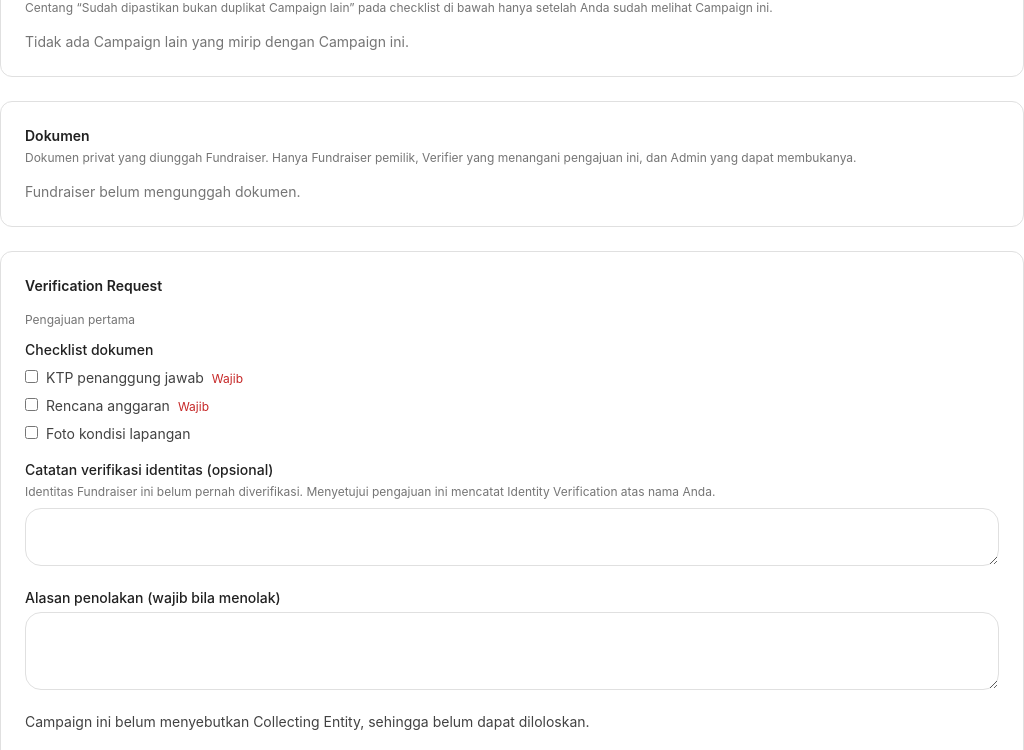
Test: the moderation page of one Campaign › required checklist items › disables approve, and says which required items are unticked, until every one is ticked
The image size is (1024, 750).
(page scrolled)
Click the checkbox labelled "KTP penanggung jawab".
click(32, 376)  # box top-left (25, 370), bottom-right (38, 383)
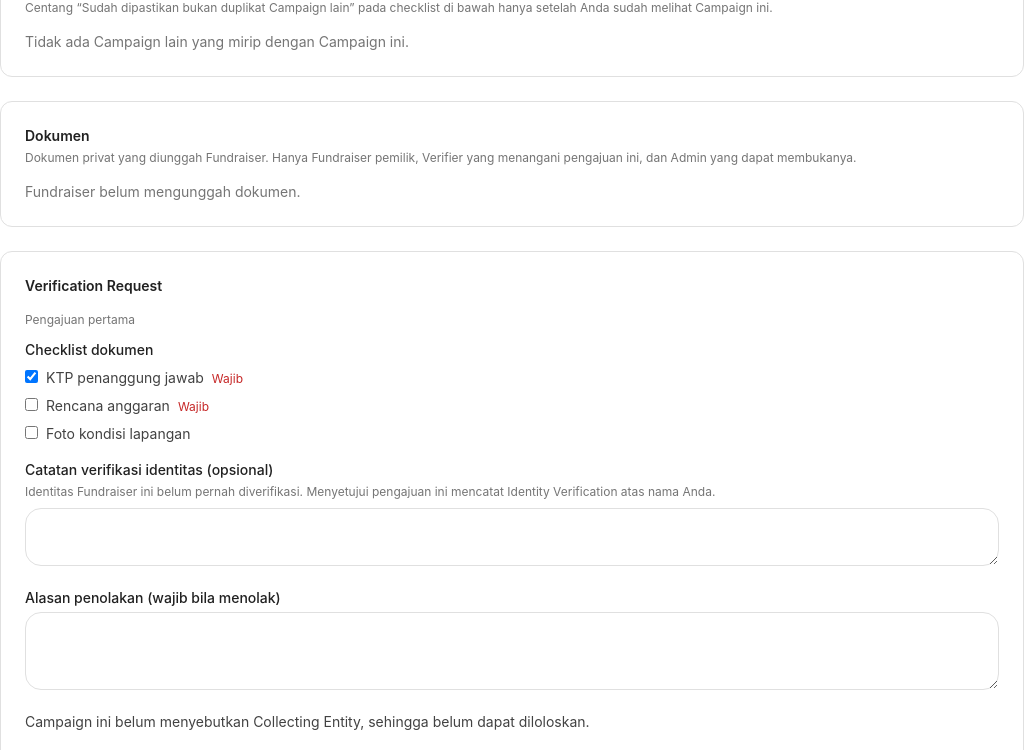
Click the checkbox labelled "Rencana anggaran".
click(32, 404)  # box top-left (25, 398), bottom-right (38, 411)
(page scrolled)
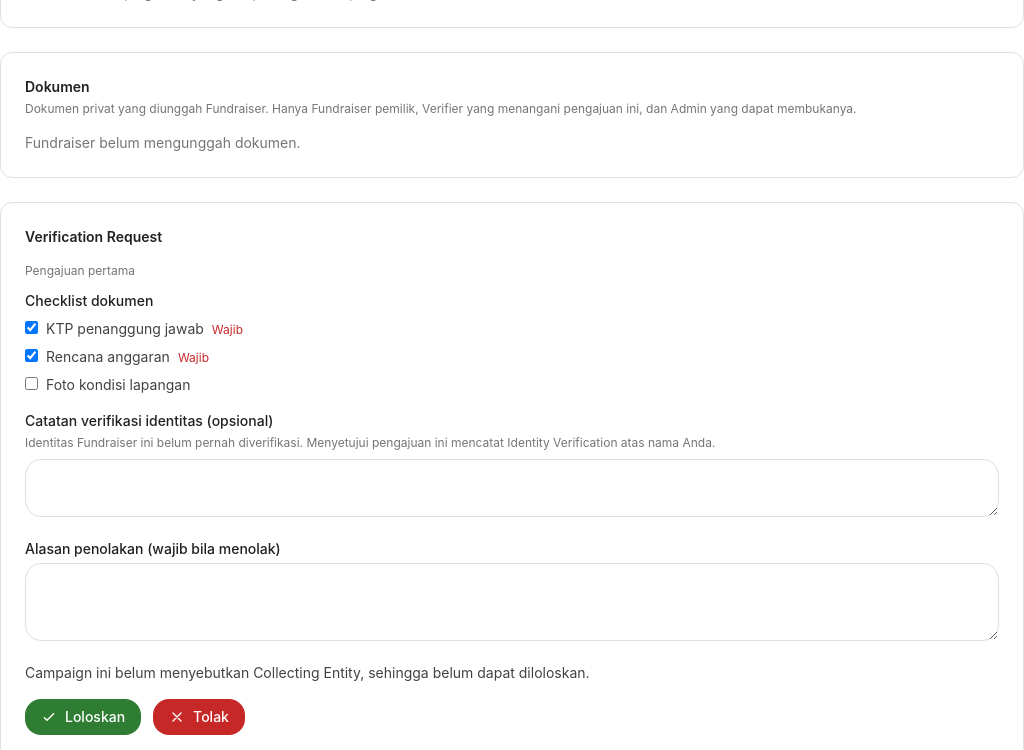
Result: the button "Loloskan" is enabled at top-left (25, 699), bottom-right (141, 735)
